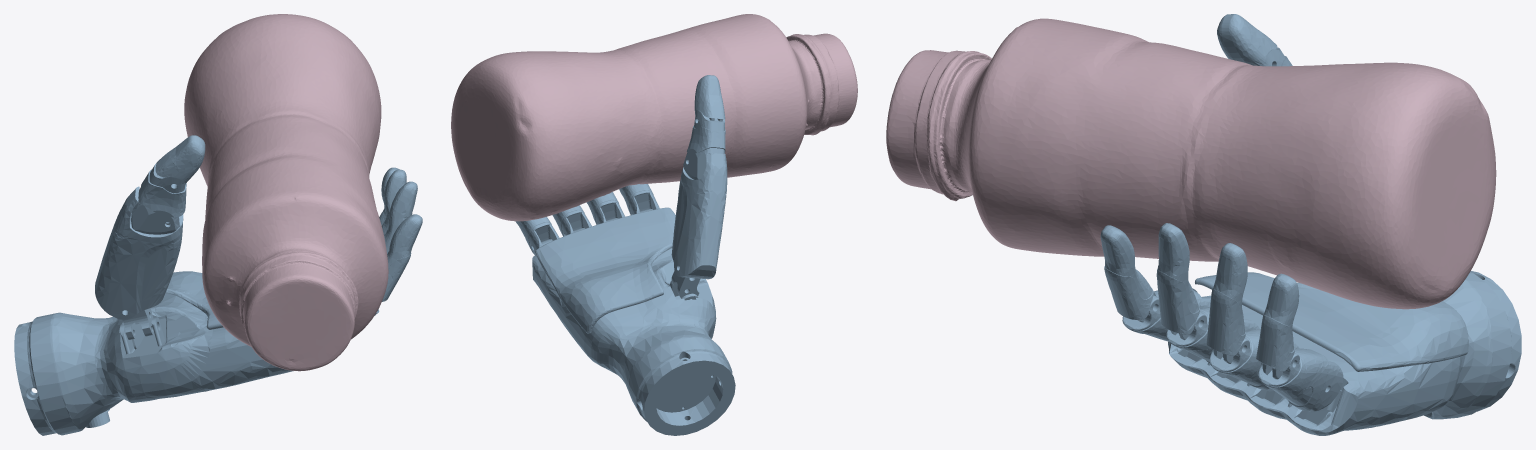
The picture shows the model from 3 angles, left to right: view 1: azimuth 30°, elevation 25°; view 2: azimuth 150°, elevation 25°; view 3: azimuth 270°, elevation 25°; orthographic projection. The views are drawn at different scales.
Parts seen in each view (by area): view 1: obj_mesh_grasp_15.obj, world; view 2: obj_mesh_grasp_15.obj, world; view 3: obj_mesh_grasp_15.obj, world.
Part boxes in pixels (box(x1,y1,x2,y2)): obj_mesh_grasp_15.obj: box(184, 14, 388, 371); world: box(14, 135, 422, 435); obj_mesh_grasp_15.obj: box(451, 14, 857, 221); world: box(515, 75, 735, 435); obj_mesh_grasp_15.obj: box(886, 18, 1496, 309); world: box(1100, 14, 1521, 435).
Size of the model in its own units: 0.1788 by 0.1862 by 0.2299.
